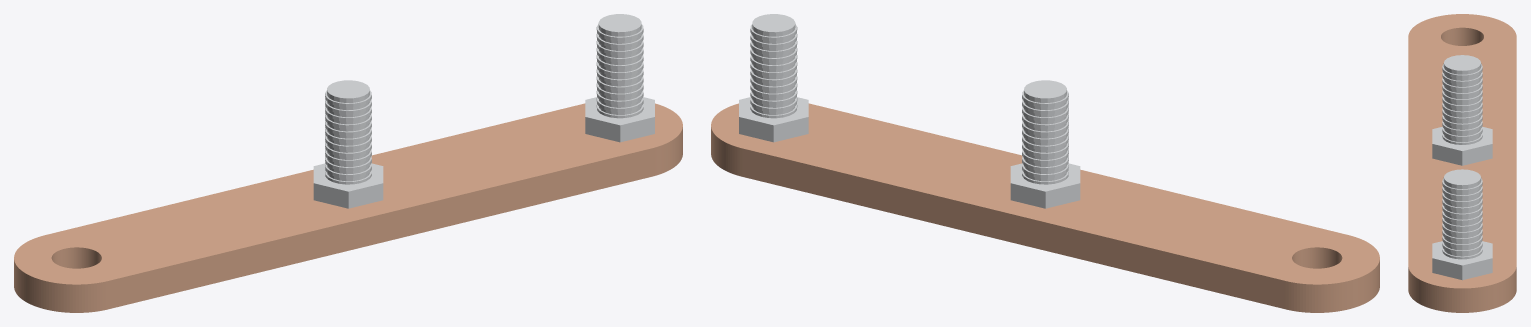
Rendered from copper-bar.glb.
3 views of the same model, side by side, from view 1: azimuth 30°, elevation 25°; view 2: azimuth 150°, elevation 25°; view 3: azimuth 270°, elevation 25° (orthographic). The views are drawn at different scales.
Visible parts, largest first — view 1: bar_1_4, bar_1_8, studs_1_4, studs_1_8; view 2: bar_1_4, bar_1_8, studs_1_4, studs_1_8; view 3: bar_1_4, studs_1_4, studs_1_8, bar_1_8.
Part boxes in pixels (x1,y1,x2,y2): bar_1_4: (14,103,682,312); bar_1_8: (14,142,682,312); studs_1_4: (313,14,654,205); studs_1_8: (325,40,654,208); bar_1_4: (711,103,1379,312); bar_1_8: (711,142,1379,312); studs_1_4: (739,14,1080,205); studs_1_8: (739,40,1068,208); bar_1_4: (1408,14,1516,312); studs_1_4: (1432,55,1492,278); studs_1_8: (1432,78,1492,280); bar_1_8: (1408,40,1516,312).
Bounding box in the file's own units: 0.1524 × 0.0292 × 0.0254.
